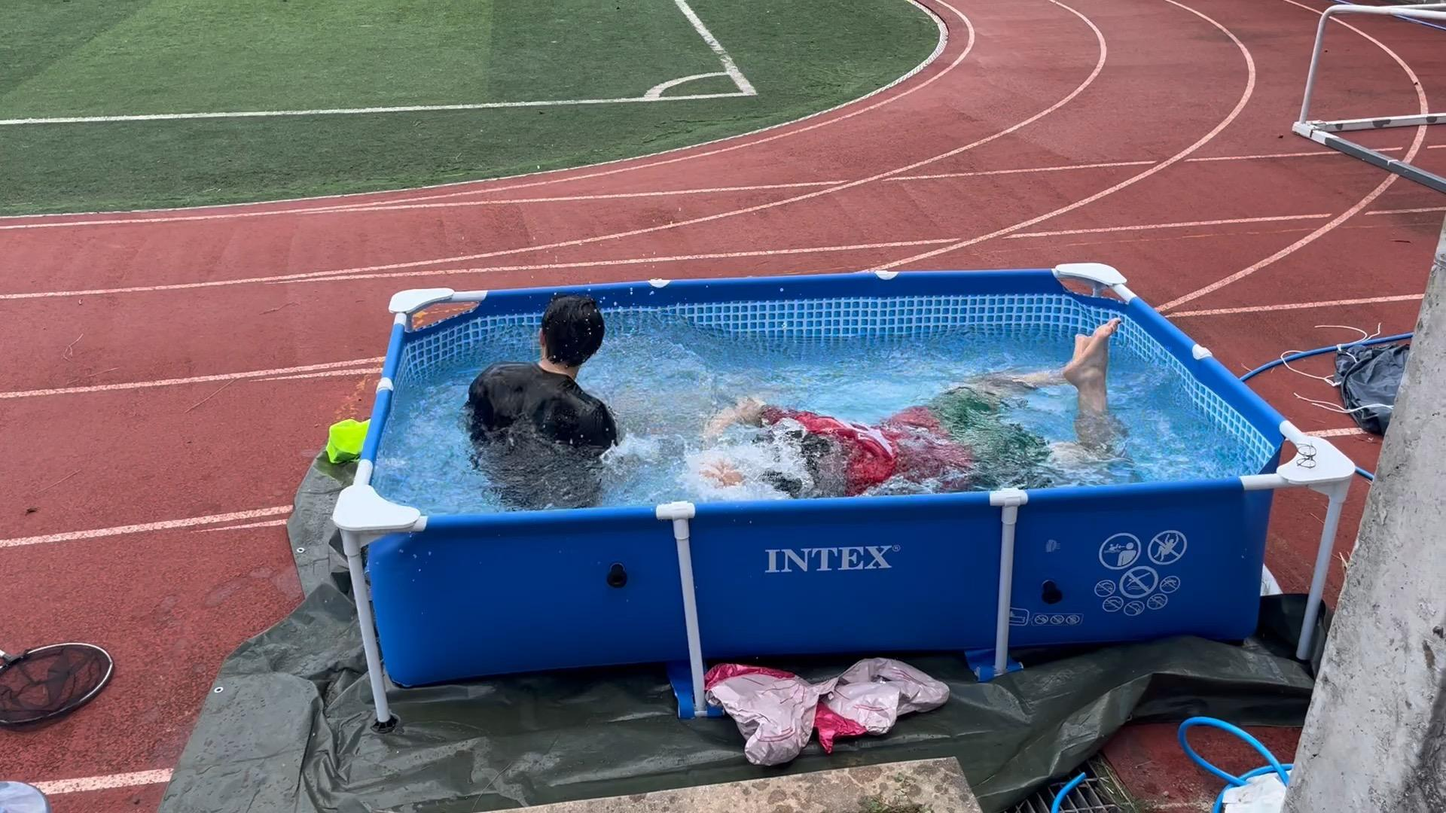Drowning: (659, 298, 1139, 518)
